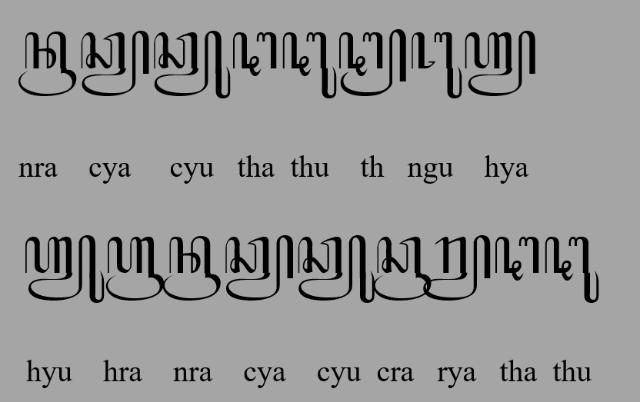-th: (339, 29, 407, 98)
cr: (374, 236, 432, 302)
cy: (80, 30, 150, 97), (226, 234, 294, 302)
cyu: (153, 30, 231, 98), (298, 235, 374, 303)
hr: (106, 236, 166, 302)
hy: (464, 30, 538, 96)
hyu: (24, 235, 104, 304)
ngu: (411, 32, 463, 100)
nr: (19, 31, 77, 97), (164, 236, 222, 300)
ry: (423, 234, 491, 302)
th: (233, 31, 277, 77), (496, 236, 540, 280)
thu: (282, 31, 338, 99), (544, 235, 600, 303)
